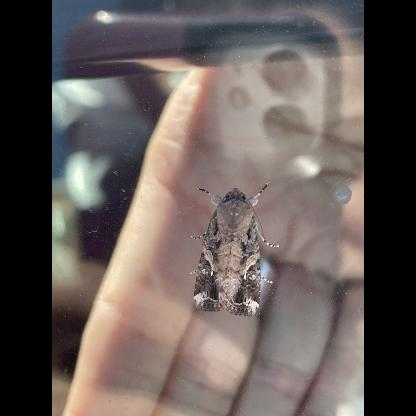Fall Armyworm Moth: (187, 180, 281, 320)
